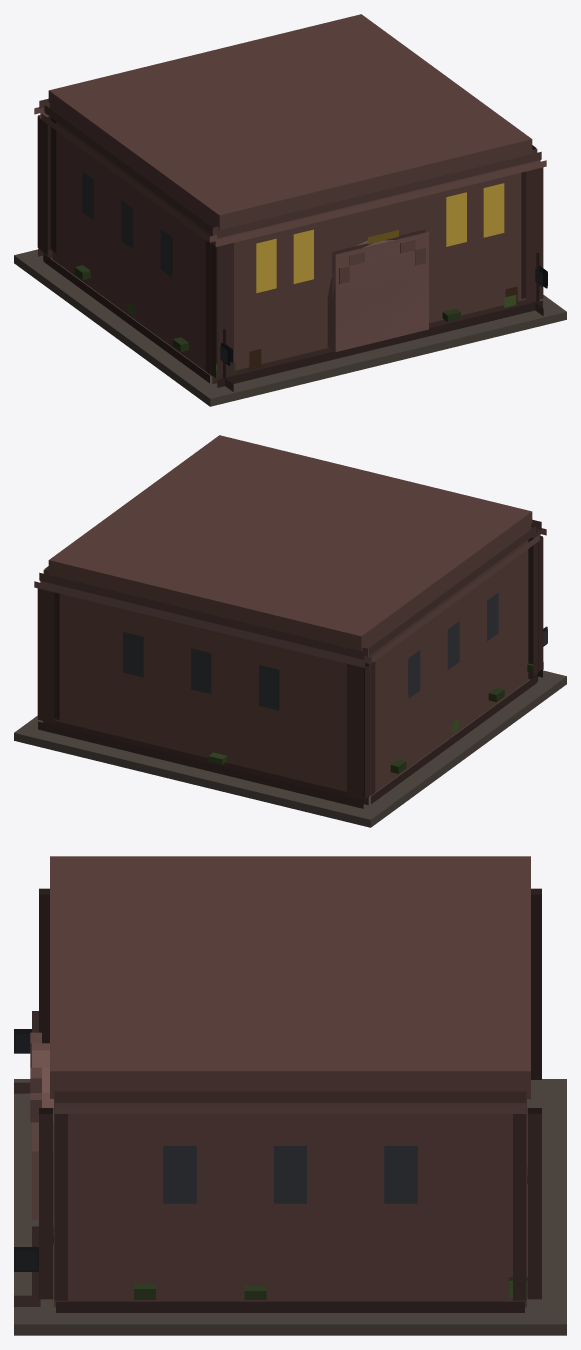
Rendered from RatThroneSil.fbx.
3 views of the same model, one above another, from view 1: azimuth 30°, elevation 25°; view 2: azimuth 150°, elevation 25°; view 3: azimuth 270°, elevation 25° (orthographic). The views are drawn at different scales.
Visible parts, largest first — view 1: RT_S_All; view 2: RT_S_All; view 3: RT_S_All.
Boxes of the visible parts, x1,y1,x2,y2 form: RT_S_All: [14, 14, 566, 406]; RT_S_All: [14, 435, 566, 827]; RT_S_All: [14, 856, 566, 1335].
Bounding box in the file's own units: 42.04 × 19.9 × 40.04.
